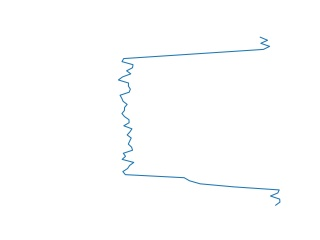distributaryChannelFill: (113, 36, 287, 208)
